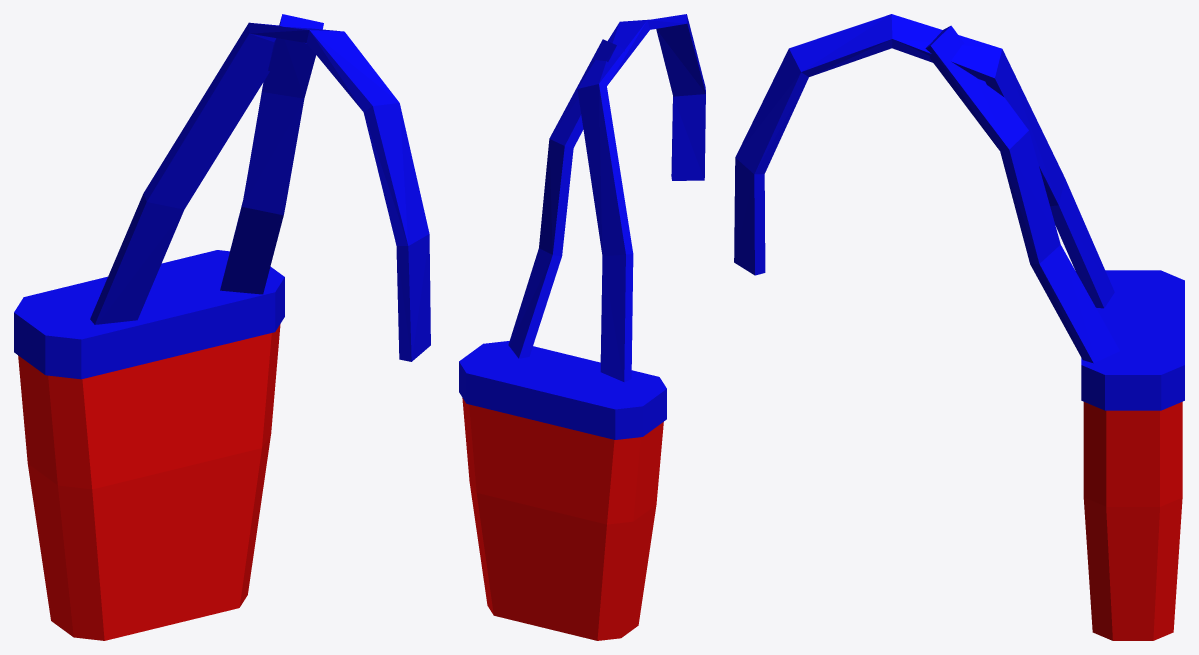
The model's file is bag_tote_01.glb.
3 views of the same model, side by side, from view 1: azimuth 30°, elevation 25°; view 2: azimuth 150°, elevation 25°; view 3: azimuth 270°, elevation 25° (orthographic). The views are drawn at different scales.
Visible parts, largest first — view 1: bag_tote_01; view 2: bag_tote_01; view 3: bag_tote_01.
Boxes of the visible parts, left/top/right/bottom form: bag_tote_01: left=14, top=14, right=430, bottom=640; bag_tote_01: left=459, top=14, right=705, bottom=640; bag_tote_01: left=734, top=14, right=1184, bottom=640.
Bounding box in the file's own units: 0.22 × 0.5887 × 0.4009.
Materials: 1 (1 with a texture image).
